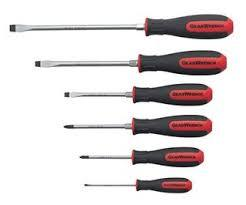screwdriver: (7, 12, 233, 39), (34, 49, 227, 75), (62, 112, 211, 137), (63, 82, 212, 105), (78, 145, 204, 167), (83, 177, 191, 192)
